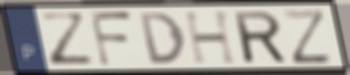D: (136, 11, 188, 67)
F: (87, 9, 136, 69)
H: (181, 9, 241, 66)
R: (230, 9, 290, 65)
Z: (36, 11, 98, 68), (279, 7, 335, 66)
